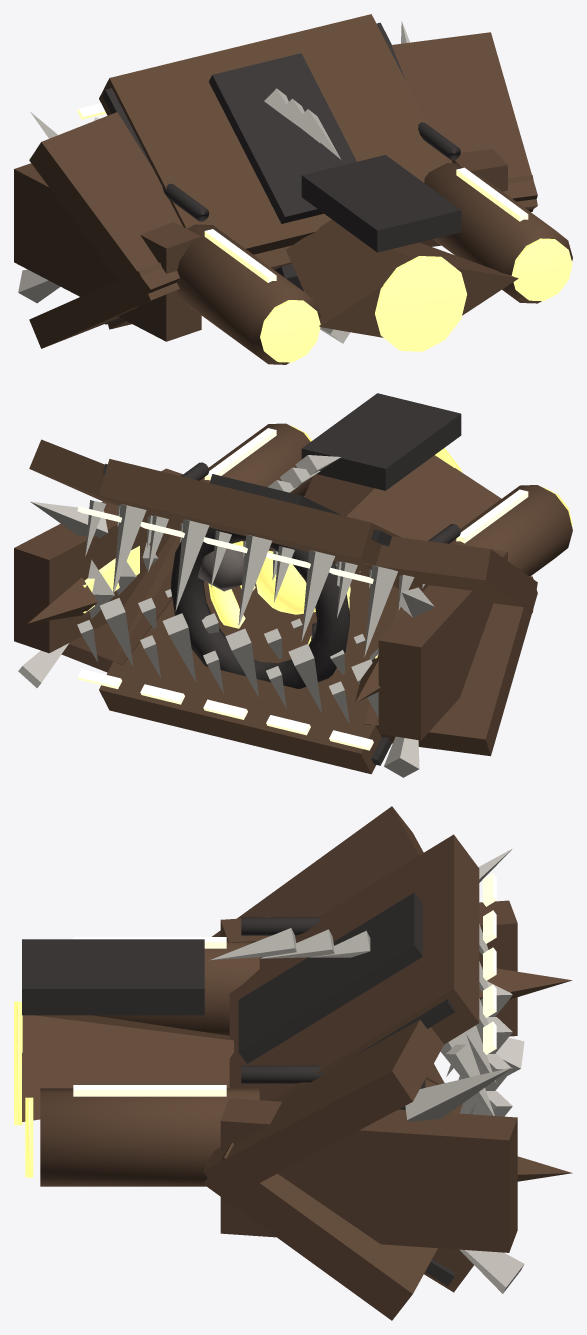
The model's file is boss-eater.glb.
3 views of the same model, one above another, from view 1: azimuth 30°, elevation 25°; view 2: azimuth 150°, elevation 25°; view 3: azimuth 270°, elevation 25° (orthographic). The views are drawn at different scales.
Visible parts, largest first — view 1: 上颚, 上颚侧板-1, 上颚外脊, 上颚侧板1, 侧颚-1, 躯干, 背甲, 推进荚-1, 推进荚1, 主尾焰, 下颚侧板-1, 荚尾焰-1 (+10 smaller); view 2: 下颚, 上颚, 侧颚-1, 背甲, 侧颚1, 躯干, 下颚侧板-1, 喉环0, 上颚侧板-1, 推进荚-1, 下颚侧板1, 推进荚1 (+30 smaller); view 3: 侧颚1, 上颚, 推进荚1, 上颚侧板1, 背甲, 躯干, 下颚侧板1, 上颚外脊, 上颚侧板-1, 推进荚-1, 侧颚-1, 上颚角牙1 (+18 smaller).
Boxes of the visible parts, x1=… form: 上颚: x1=99, y1=14, x2=447, y2=254; 上颚侧板-1: x1=29, y1=112, x2=183, y2=307; 上颚外脊: x1=209, y1=53, x2=356, y2=223; 上颚侧板1: x1=391, y1=32, x2=537, y2=211; 侧颚-1: x1=14, y1=163, x2=201, y2=341; 躯干: x1=286, y1=219, x2=518, y2=337; 背甲: x1=301, y1=155, x2=461, y2=252; 推进荚-1: x1=177, y1=224, x2=320, y2=364; 推进荚1: x1=424, y1=163, x2=572, y2=303; 主尾焰: x1=375, y1=256, x2=467, y2=351; 下颚侧板-1: x1=29, y1=263, x2=179, y2=348; 荚尾焰-1: x1=260, y1=300, x2=320, y2=362; 下颚: x1=99, y1=536, x2=398, y2=774; 上颚: x1=99, y1=459, x2=424, y2=591; 侧颚-1: x1=378, y1=545, x2=507, y2=740; 背甲: x1=301, y1=393, x2=461, y2=490; 侧颚1: x1=14, y1=468, x2=201, y2=653; 躯干: x1=304, y1=455, x2=501, y2=540; 下颚侧板-1: x1=364, y1=576, x2=537, y2=756; 喉环0: x1=171, y1=527, x2=349, y2=688; 上颚侧板-1: x1=364, y1=536, x2=537, y2=613; 推进荚-1: x1=449, y1=485, x2=572, y2=576; 下颚侧板1: x1=61, y1=535, x2=176, y2=672; 推进荚1: x1=200, y1=423, x2=312, y2=496; 侧颚1: x1=220, y1=1098, x2=517, y2=1252; 上颚: x1=229, y1=834, x2=479, y2=1101; 推进荚1: x1=40, y1=1088, x2=259, y2=1186; 上颚侧板1: x1=203, y1=1019, x2=443, y2=1201; 背甲: x1=22, y1=939, x2=204, y2=1015; 躯干: x1=22, y1=1015, x2=233, y2=1121; 下颚侧板1: x1=203, y1=1142, x2=437, y2=1320; 上颚外脊: x1=238, y1=892, x2=422, y2=1063; 上颚侧板-1: x1=212, y1=806, x2=423, y2=936; 推进荚-1: x1=93, y1=941, x2=259, y2=1035; 侧颚-1: x1=220, y1=900, x2=517, y2=1036; 上颚角牙1: x1=405, y1=1067, x2=512, y2=1121.
Bounding box in the file's own units: 17.42 × 9.17 × 15.3.
